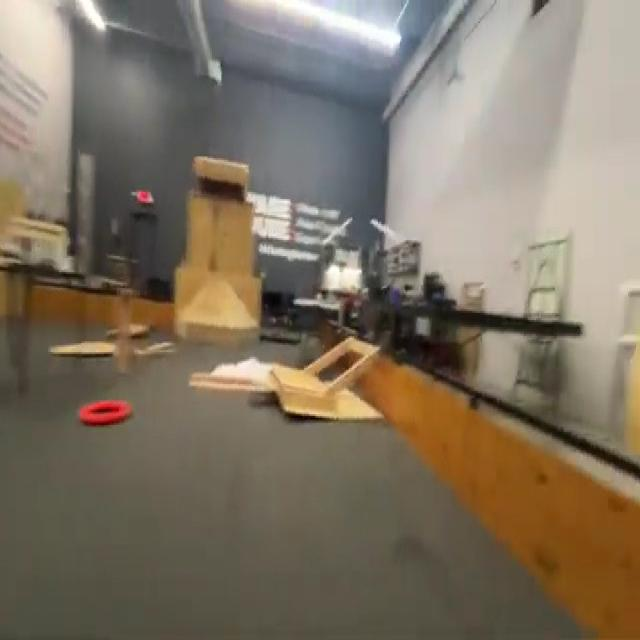note: (77, 400, 135, 429)
